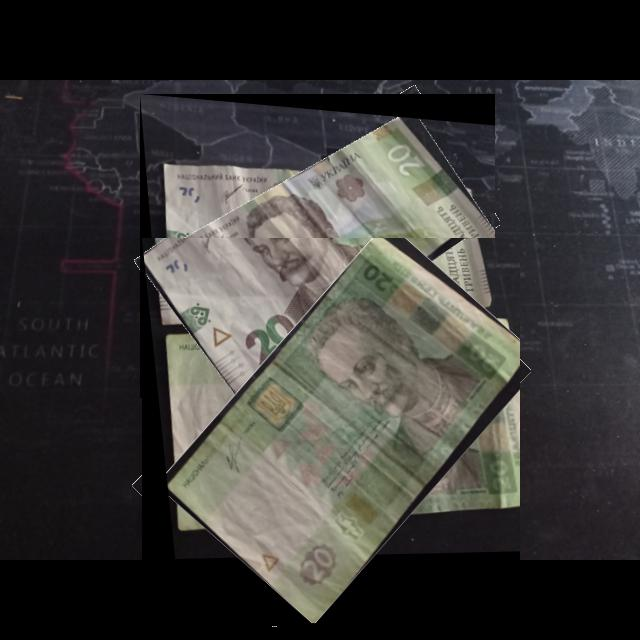20uah: (163, 238, 521, 626), (151, 113, 496, 399)
